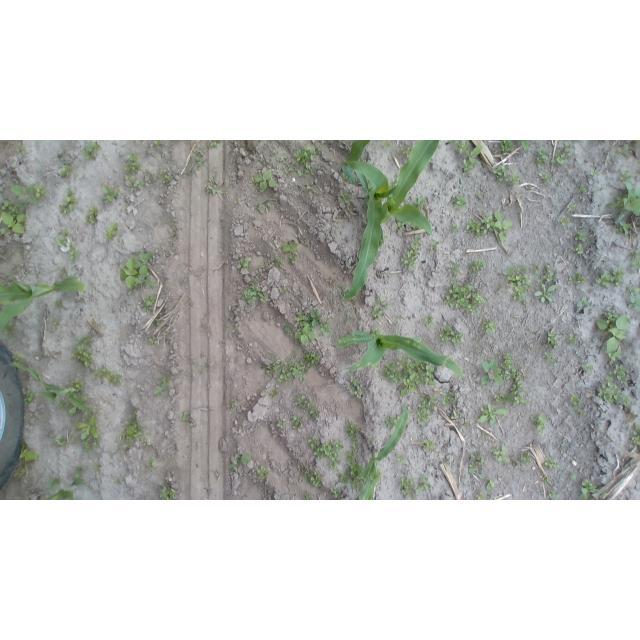Maize: (341, 140, 439, 300), (334, 330, 468, 383), (1, 274, 86, 333), (358, 406, 408, 500), (4, 363, 91, 414), (45, 478, 85, 500), (347, 140, 370, 162), (521, 140, 532, 150)
Weeds: (284, 307, 332, 345), (266, 352, 319, 385), (596, 305, 625, 363), (396, 358, 437, 397), (605, 181, 640, 221), (440, 281, 484, 312), (120, 251, 153, 290), (503, 354, 528, 404), (0, 194, 28, 238), (308, 437, 345, 470), (503, 263, 530, 303), (598, 377, 630, 406), (475, 403, 509, 427), (295, 147, 324, 175), (487, 211, 514, 241), (400, 238, 424, 270), (123, 152, 144, 188), (119, 411, 141, 440), (56, 229, 77, 259), (296, 396, 321, 421), (11, 180, 37, 204), (93, 365, 121, 387), (75, 414, 99, 439), (461, 145, 483, 171), (419, 395, 438, 425), (481, 358, 503, 383), (440, 324, 465, 346), (243, 284, 269, 305), (595, 269, 625, 287), (549, 144, 575, 164), (59, 186, 75, 216), (536, 281, 557, 303), (82, 141, 103, 162), (490, 444, 511, 464), (203, 175, 223, 196), (73, 345, 92, 367), (255, 171, 277, 190), (278, 155, 298, 175), (382, 363, 401, 384), (301, 470, 324, 487), (19, 441, 37, 462), (283, 241, 299, 264), (256, 194, 276, 212), (532, 412, 549, 433), (154, 376, 170, 396), (468, 451, 488, 466), (628, 287, 640, 312), (398, 477, 411, 500), (468, 221, 485, 238), (609, 364, 627, 380), (581, 478, 599, 494), (345, 443, 363, 459), (350, 376, 363, 398), (345, 463, 363, 478), (449, 196, 467, 211), (493, 165, 508, 183), (535, 146, 549, 165), (86, 206, 100, 224), (103, 185, 117, 203), (345, 421, 359, 439), (454, 141, 470, 156), (105, 222, 118, 240), (629, 249, 640, 270), (548, 332, 562, 348), (13, 463, 27, 478), (161, 485, 175, 500), (468, 259, 482, 273), (83, 439, 98, 452), (38, 183, 51, 198), (144, 296, 159, 309), (620, 221, 633, 236), (60, 165, 76, 177), (419, 474, 431, 490), (338, 192, 354, 204), (15, 143, 29, 156), (444, 392, 457, 406), (235, 454, 253, 464), (482, 319, 494, 334), (575, 297, 591, 308), (501, 141, 514, 154), (569, 396, 583, 408), (197, 149, 206, 167), (544, 266, 554, 282), (452, 263, 465, 275), (378, 296, 391, 308), (292, 416, 304, 429), (237, 257, 249, 270), (23, 390, 33, 405), (545, 457, 560, 467), (206, 141, 222, 150), (4, 322, 14, 336), (575, 231, 589, 241), (509, 172, 523, 182), (476, 492, 491, 501), (56, 435, 68, 446), (412, 477, 418, 499), (414, 197, 426, 208), (384, 418, 396, 429), (160, 170, 170, 183), (542, 173, 555, 183), (276, 420, 286, 433), (470, 469, 484, 478), (72, 380, 83, 391), (543, 351, 554, 362), (372, 309, 383, 320), (425, 440, 436, 451), (333, 487, 343, 499), (258, 466, 270, 476), (82, 335, 94, 345), (561, 215, 573, 225), (568, 332, 577, 345), (582, 364, 596, 372), (351, 479, 362, 489), (619, 144, 630, 154), (273, 256, 284, 266), (540, 474, 552, 483), (484, 482, 496, 491), (574, 244, 583, 256), (495, 393, 505, 403), (76, 466, 85, 477), (50, 480, 59, 491), (337, 473, 346, 484), (578, 273, 587, 284), (179, 413, 189, 422), (631, 435, 640, 445), (549, 490, 559, 499), (514, 459, 523, 469), (426, 317, 435, 327), (58, 149, 69, 157), (570, 472, 579, 481), (396, 222, 405, 231), (148, 460, 158, 468), (523, 451, 531, 461), (397, 454, 407, 462), (620, 169, 628, 179), (60, 401, 69, 409), (93, 462, 102, 470), (13, 354, 22, 362), (152, 140, 164, 146), (450, 410, 458, 419), (342, 174, 351, 182), (231, 398, 238, 408), (405, 147, 412, 157), (633, 424, 640, 434), (534, 265, 541, 275), (450, 221, 457, 231), (577, 187, 587, 194), (229, 464, 237, 472), (70, 408, 77, 417), (433, 240, 440, 249), (569, 276, 575, 286), (269, 390, 279, 396), (53, 319, 61, 326), (56, 300, 63, 308), (125, 445, 131, 454), (382, 142, 391, 148), (569, 204, 576, 211), (593, 169, 600, 176), (82, 397, 90, 403), (149, 174, 155, 182), (278, 286, 286, 292), (157, 320, 163, 327), (579, 409, 586, 415), (307, 184, 313, 190), (149, 338, 155, 343), (372, 436, 377, 442), (305, 497, 313, 500)
